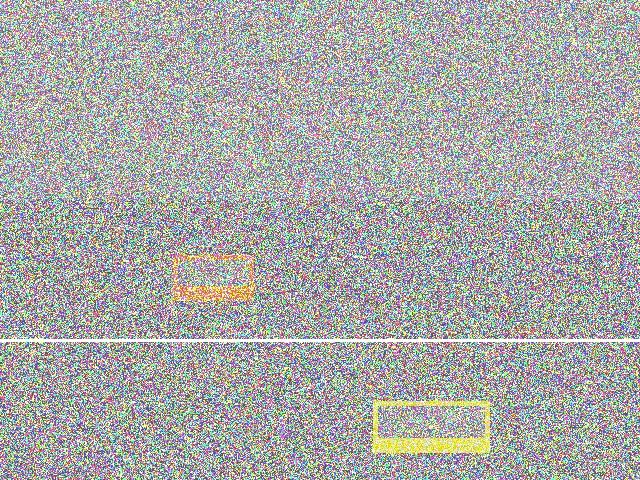motorcycle: (118, 360, 254, 422)
